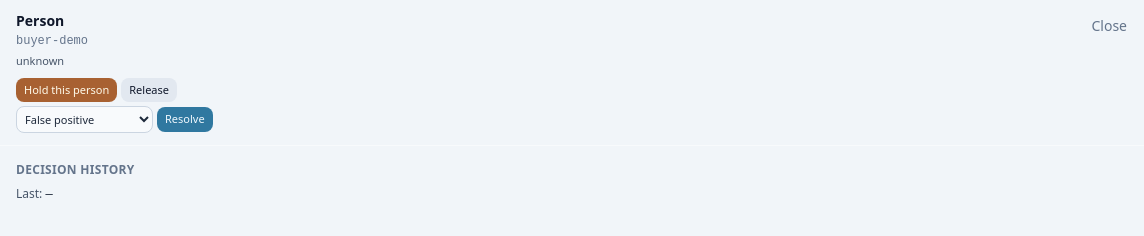
Test: GraphContextPanel object dossier › holds the Person without rewriting the id
The image size is (1144, 236).
Step 1. Click the button "Hold this person" → point(67, 90), box [16,78,117,102]
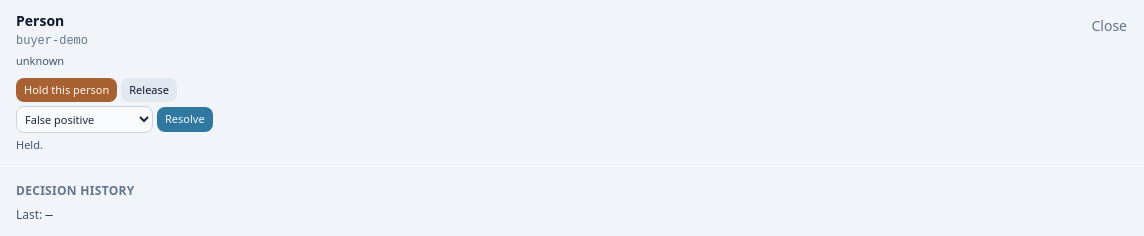
Expected: the text "Held." is shown, [16,137,43,152]
